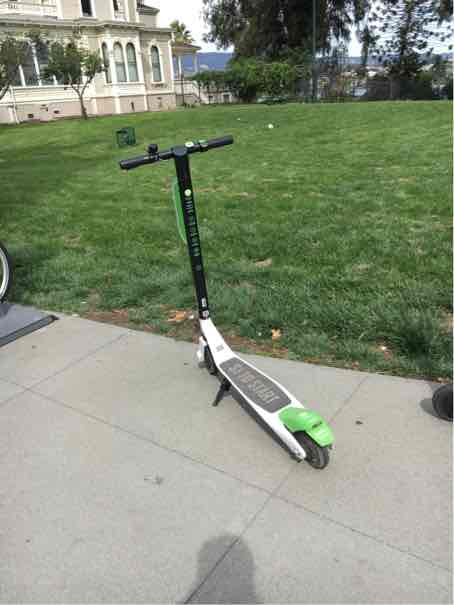scooter: (121, 129, 343, 475)
